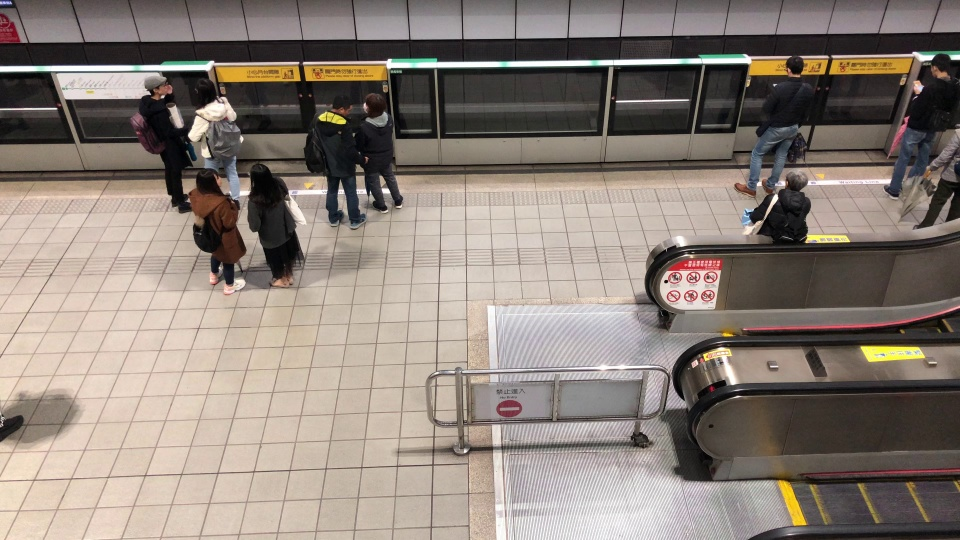person_head: (193, 167, 225, 198), (360, 92, 389, 124), (190, 79, 219, 108), (779, 170, 809, 198), (247, 164, 274, 194), (141, 75, 172, 101), (328, 96, 354, 120), (783, 55, 807, 80), (930, 53, 952, 79)
person_vbox: (880, 53, 960, 204), (733, 54, 812, 199), (124, 75, 200, 218), (176, 167, 251, 296), (302, 96, 370, 230), (239, 164, 309, 294), (181, 79, 245, 202), (908, 102, 960, 232), (355, 89, 409, 213), (738, 171, 815, 244)
